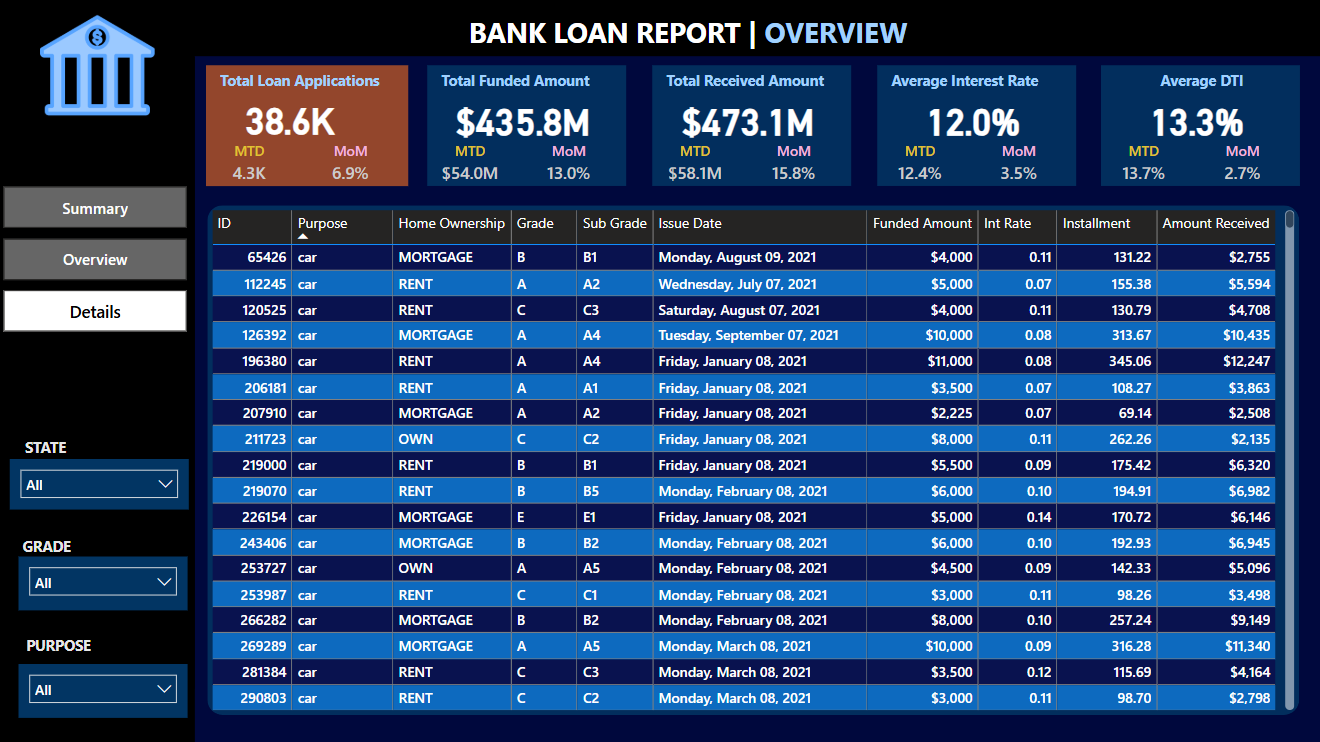

The dashboard page shown, as its layout file describes it:
{"tool":"powerbi","page":{"name":"Details","canvas":[1280,720],"ordinal":2},"visuals":[{"type":"shape","box":[0,0,1280,55.5],"z":0},{"type":"shape","box":[202.8,64.3,195.2,116.7],"z":0,"group":"g1"},{"type":"shape","box":[416,64.3,192.3,116.7],"z":0,"group":"g2"},{"type":"shape","box":[633,64.3,192.3,116.7],"z":0,"group":"g3"},{"type":"shape","box":[850,64.3,192.3,116.7],"z":0,"group":"g4"},{"type":"shape","box":[1066.9,64.4,192.3,116.7],"z":0,"group":"g5"},{"type":"shape","box":[0,55.5,192,665],"z":1000},{"type":"card","fields":{"Values":["Measure Table.Total Loan Applications"]},"box":[167.9,85.4,232.1,61.9],"z":1000,"group":"g1"},{"type":"card","fields":{"Values":["Measure Table.Total Funded Amount"]},"box":[394.3,86.6,228.6,61.9],"z":1000,"group":"g2"},{"type":"card","fields":{"Values":["Measure Table.Total Amount Received"]},"box":[611.3,86.6,228.6,61.9],"z":1000,"group":"g3"},{"type":"card","fields":{"Values":["Measure Table.Average Interest Rate"]},"box":[828.3,86.6,228.6,61.9],"z":1000,"group":"g4"},{"type":"card","fields":{"Values":["Measure Table.Average DTI"]},"box":[1045.2,86.7,228.6,61.9],"z":1000,"group":"g5"},{"type":"textbox","box":[211.2,64.3,195.2,34.5],"z":2000,"group":"g1"},{"type":"textbox","box":[424.2,64.3,192.3,34.5],"z":2000,"group":"g2"},{"type":"textbox","box":[641.2,64.3,192.3,34.5],"z":2000,"group":"g3"},{"type":"textbox","box":[858.2,64.3,192.3,34.5],"z":2000,"group":"g4"},{"type":"textbox","box":[1075.1,64.4,192.3,34.5],"z":2000,"group":"g5"},{"type":"textbox","box":[20.2,344,183.3,34.5],"z":2000},{"type":"textbox","box":[451.2,8.3,447.6,47.6],"z":3000},{"type":"card","title":"MTD","fields":{"Values":["Measure Table.MTD Loan Applications"]},"box":[211.2,138.1,66.7,42.9],"z":3000,"group":"g1"},{"type":"card","title":"MTD","fields":{"Values":["Measure Table.MTD Total Funded Amount"]},"box":[424.2,138.1,65.7,42.9],"z":3000,"group":"g2"},{"type":"card","title":"MTD","fields":{"Values":["Measure Table.MTD Total Received Amount"]},"box":[641.2,138.1,65.7,42.9],"z":3000,"group":"g3"},{"type":"card","title":"MTD","fields":{"Values":["Measure Table.MTD Interest Rate"]},"box":[858.2,138.1,65.7,42.9],"z":3000,"group":"g4"},{"type":"card","title":"MTD","fields":{"Values":["Measure Table.MTD Average DTI"]},"box":[1075.1,138.2,65.7,42.9],"z":3000,"group":"g5"},{"type":"group","id":"g1","title":"Group 1","box":[167.9,64.3,238.1,116.7],"z":4000},{"type":"card","title":"MoM","fields":{"Values":["Measure Table.MoM Loan Applications"]},"box":[308.8,138.1,66.7,42.9],"z":4000,"group":"g1"},{"type":"card","title":"MoM","fields":{"Values":["Measure Table.MoM Funded Amount"]},"box":[520.4,138.1,65.7,42.9],"z":4000,"group":"g2"},{"type":"card","title":"MoM","fields":{"Values":["Measure Table.MoM Received Amount"]},"box":[737.4,138.1,65.7,42.9],"z":4000,"group":"g3"},{"type":"card","title":"MoM","fields":{"Values":["Measure Table.MoM Interest Rate"]},"box":[954.4,138.1,65.7,42.9],"z":4000,"group":"g4"},{"type":"card","title":"MoM","fields":{"Values":["Measure Table.MoM Average DTI"]},"box":[1171.3,138.2,65.7,42.9],"z":4000,"group":"g5"},{"type":"group","id":"g2","title":"Group 1","box":[394.3,64.3,228.6,116.7],"z":5000},{"type":"group","id":"g3","title":"Group 1","box":[611.3,64.3,228.6,116.7],"z":6000},{"type":"group","id":"g4","title":"Group 1","box":[828.3,64.3,228.6,116.7],"z":7000},{"type":"group","id":"g5","title":"Group 1","box":[1045.2,64.4,228.6,116.7],"z":8000},{"type":"shape","box":[0,0,191.7,665.5],"z":9000},{"type":"slicer","fields":{"Values":["bank_loan_data.address_state"]},"box":[13.1,444.3,172.6,48.8],"z":10000},{"type":"textbox","box":[22.6,418.1,72.6,34.5],"z":11000},{"type":"slicer","fields":{"Values":["bank_loan_data.grade"]},"box":[21.4,538.4,163.1,52.4],"z":12000},{"type":"textbox","box":[20.2,513.4,72.6,34.5],"z":13000},{"type":"slicer","fields":{"Values":["bank_loan_data.purpose"]},"box":[21.4,641.9,163.1,52.4],"z":14000},{"type":"textbox","box":[23.8,609.8,88.1,32.1],"z":15000},{"type":"shape","box":[203.9,199.1,1054.4,492.2],"z":16000},{"type":"tableEx","fields":{"Values":["bank_loan_data.id","bank_loan_data.purpose","bank_loan_data.home_ownership","bank_loan_data.grade","bank_loan_data.sub_grade","bank_loan_data.issue_date","Measure Table.Total Funded Amount","Sum(bank_loan_data.int_rate)","Sum(bank_loan_data.installment)","Measure Table.Total Amount Received"]},"box":[202.7,199.1,1055.6,492.2],"z":17000},{"type":"pageNavigator","box":[7.2,181,177.3,142.4],"z":18000},{"type":"image","box":[36.2,2.4,123.1,123.1],"z":19000}]}

Visuals, with their boxes in screenshot pixels (x1, y1, x2, y2), scaled from the page's 1280x720 canvas onto the 1320x742 screenshot:
shape: l=0, t=0, r=1319, b=57
shape: l=209, t=66, r=410, b=187
shape: l=429, t=66, r=627, b=187
shape: l=653, t=66, r=851, b=187
shape: l=877, t=66, r=1075, b=187
shape: l=1100, t=66, r=1299, b=187
shape: l=0, t=57, r=198, b=741
card - Measure Table.Total Loan Applications: l=173, t=88, r=412, b=152
card - Measure Table.Total Funded Amount: l=407, t=89, r=642, b=153
card - Measure Table.Total Amount Received: l=630, t=89, r=866, b=153
card - Measure Table.Average Interest Rate: l=854, t=89, r=1090, b=153
card - Measure Table.Average DTI: l=1078, t=89, r=1314, b=153
textbox: l=218, t=66, r=419, b=102
textbox: l=437, t=66, r=636, b=102
textbox: l=661, t=66, r=860, b=102
textbox: l=885, t=66, r=1083, b=102
textbox: l=1109, t=66, r=1307, b=102
textbox: l=21, t=355, r=210, b=390
textbox: l=465, t=9, r=927, b=58
"MTD" card: l=218, t=142, r=287, b=187
"MTD" card: l=437, t=142, r=505, b=187
"MTD" card: l=661, t=142, r=729, b=187
"MTD" card: l=885, t=142, r=953, b=187
"MTD" card: l=1109, t=142, r=1176, b=187
"Group 1" group: l=173, t=66, r=419, b=187
"MoM" card: l=318, t=142, r=387, b=187
"MoM" card: l=537, t=142, r=604, b=187
"MoM" card: l=760, t=142, r=828, b=187
"MoM" card: l=984, t=142, r=1052, b=187
"MoM" card: l=1208, t=142, r=1276, b=187
"Group 1" group: l=407, t=66, r=642, b=187
"Group 1" group: l=630, t=66, r=866, b=187
"Group 1" group: l=854, t=66, r=1090, b=187
"Group 1" group: l=1078, t=66, r=1314, b=187
shape: l=0, t=0, r=198, b=686
slicer - bank_loan_data.address_state: l=14, t=458, r=192, b=508
textbox: l=23, t=431, r=98, b=466
slicer - bank_loan_data.grade: l=22, t=555, r=190, b=609
textbox: l=21, t=529, r=96, b=565
slicer - bank_loan_data.purpose: l=22, t=662, r=190, b=716
textbox: l=25, t=628, r=115, b=662
shape: l=210, t=205, r=1298, b=712
tableEx - bank_loan_data.id x bank_loan_data.purpose: l=209, t=205, r=1298, b=712
pageNavigator: l=7, t=187, r=190, b=333
image: l=37, t=2, r=164, b=129
